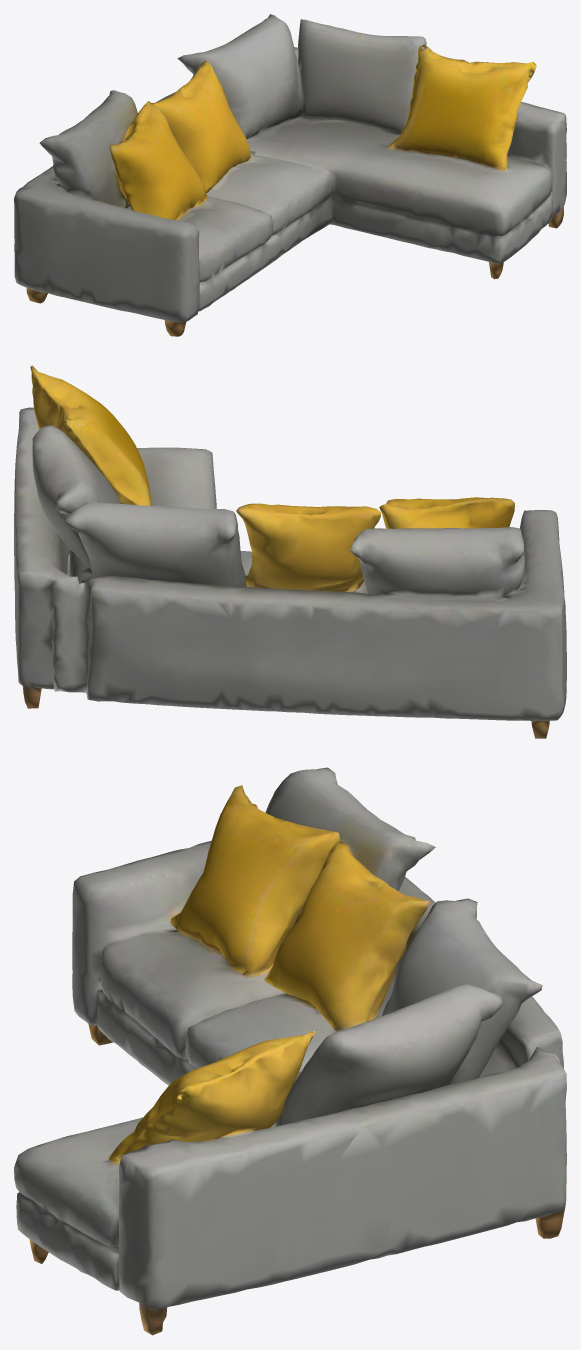
Rendered from 01_grey_sofa.glb.
3 views of the same model, one above another, from view 1: azimuth 30°, elevation 25°; view 2: azimuth 150°, elevation 25°; view 3: azimuth 270°, elevation 25° (orthographic). The views are drawn at different scales.
Visible parts, largest first — view 1: geometry_0; view 2: geometry_0; view 3: geometry_0.
Part boxes in pixels (x1,y1,x2,y2): geometry_0: (14, 14, 566, 336); geometry_0: (14, 365, 566, 738); geometry_0: (14, 767, 566, 1335).
Bounding box in the file's own units: 1.9 × 0.6026 × 1.22.
Materials: 1 (1 with a texture image).
